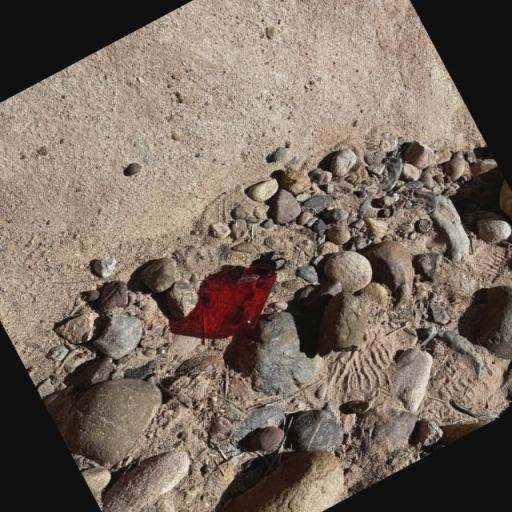bottle: (197, 246, 309, 346)
